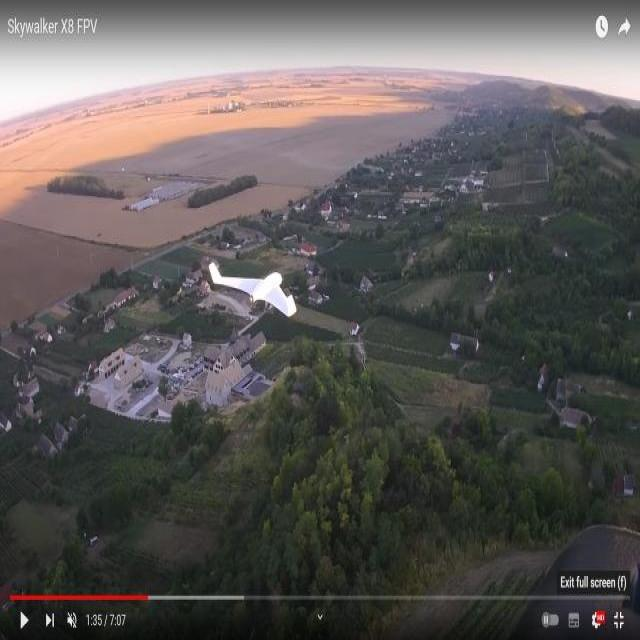iha: (237, 280, 281, 293)
